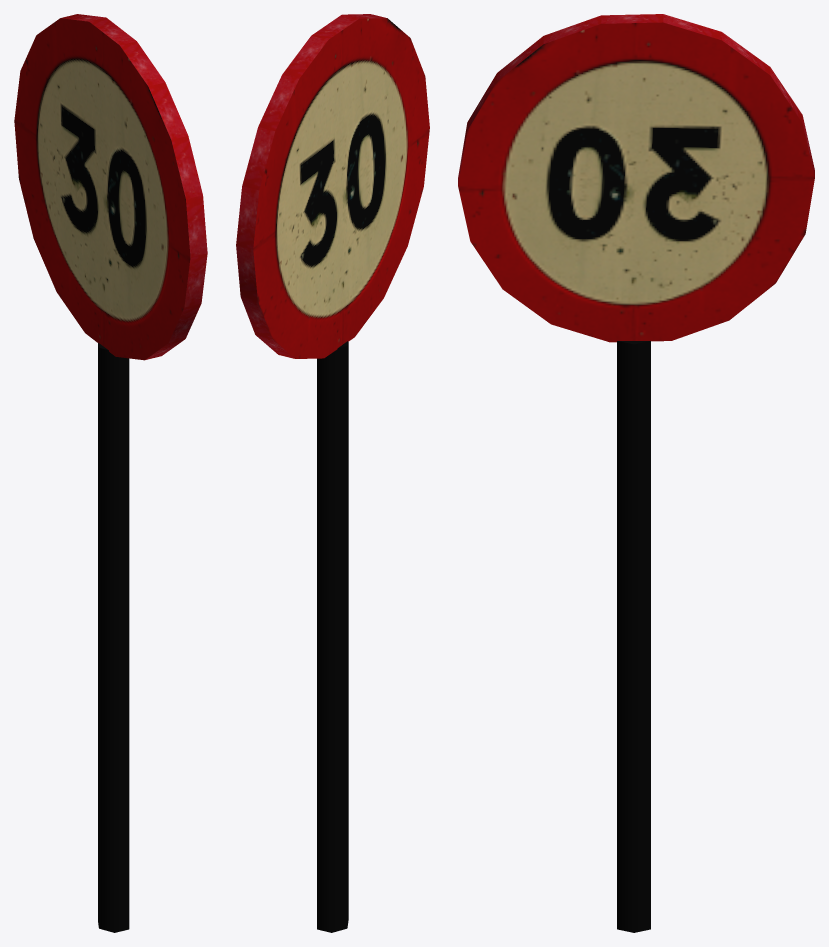
Rendered from traffic sign2.FBX.
3 renders of one model, left to right at view 1: azimuth 30°, elevation 25°; view 2: azimuth 150°, elevation 25°; view 3: azimuth 270°, elevation 25°, orthographic.
Visible parts, largest first — view 1: Cylinder002; view 2: Cylinder002; view 3: Cylinder002.
Part boxes in pixels (x1,y1,x2,y2): Cylinder002: (14,14,207,932); Cylinder002: (236,14,429,932); Cylinder002: (458,14,814,932).
Bounding box in the file's own units: 0.64 × 18.8 × 6.7.
